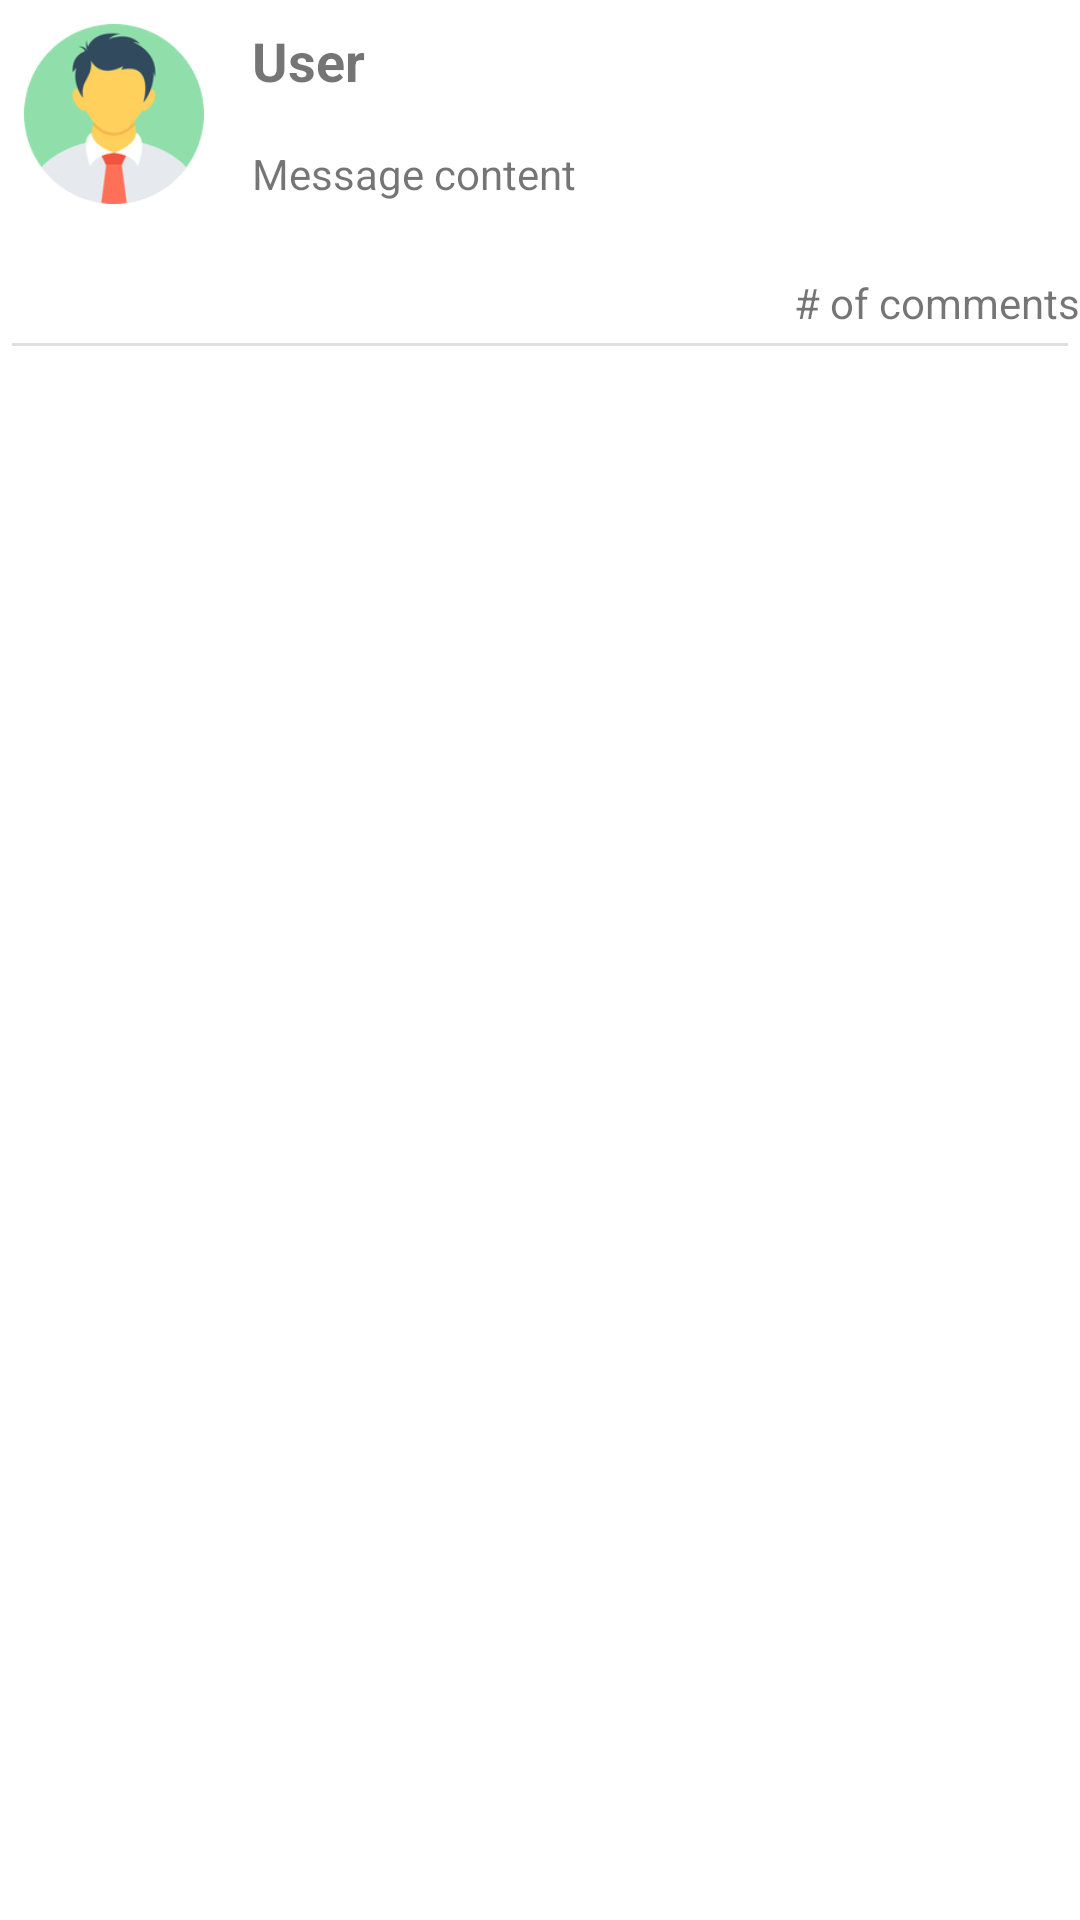

Locate icon controls on the screen. Image size 1080px x 1920px, boxes as (x1, y1, x2, y2).
photo: (24, 24, 204, 204)
